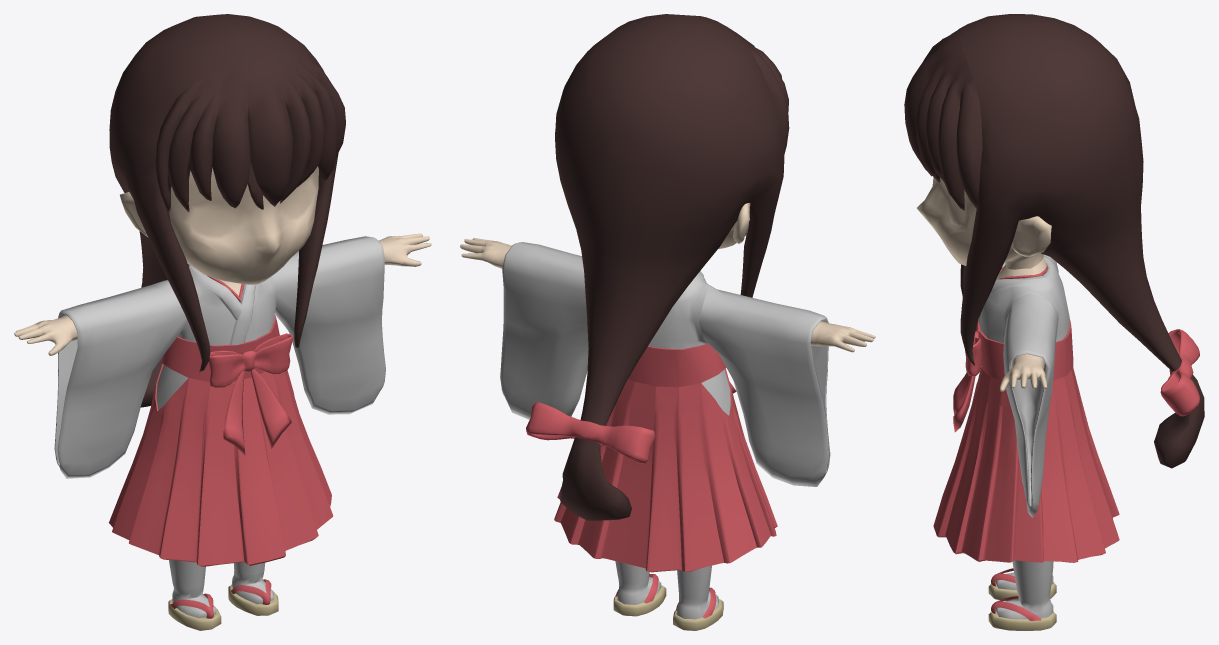
File: miko_alpha.m.fbx
The picture shows the model from 3 angles, left to right: view 1: azimuth 30°, elevation 25°; view 2: azimuth 150°, elevation 25°; view 3: azimuth 270°, elevation 25°; orthographic projection.
Visible parts, largest first — view 1: kami, upbody, hakama, face, reg; view 2: kami, upbody, hakama, reg, face; view 3: kami, hakama, upbody, face, reg.
Part boxes in pixels (left/top/right/bottom): kami: left=109, top=14, right=345, bottom=407; upbody: left=14, top=233, right=431, bottom=478; hakama: left=109, top=315, right=333, bottom=566; face: left=120, top=166, right=318, bottom=284; reg: left=168, top=560, right=278, bottom=630; kami: left=526, top=14, right=789, bottom=520; upbody: left=460, top=238, right=875, bottom=486; hakama: left=554, top=343, right=777, bottom=572; reg: left=613, top=561, right=723, bottom=630; face: left=718, top=203, right=750, bottom=248; kami: left=904, top=14, right=1204, bottom=468; hakama: left=933, top=318, right=1119, bottom=562; upbody: left=978, top=254, right=1069, bottom=517; face: left=917, top=177, right=1051, bottom=269; reg: left=988, top=560, right=1056, bottom=630.
Bounding box in the file's own units: 0.5142 × 0.7033 × 0.3268.
